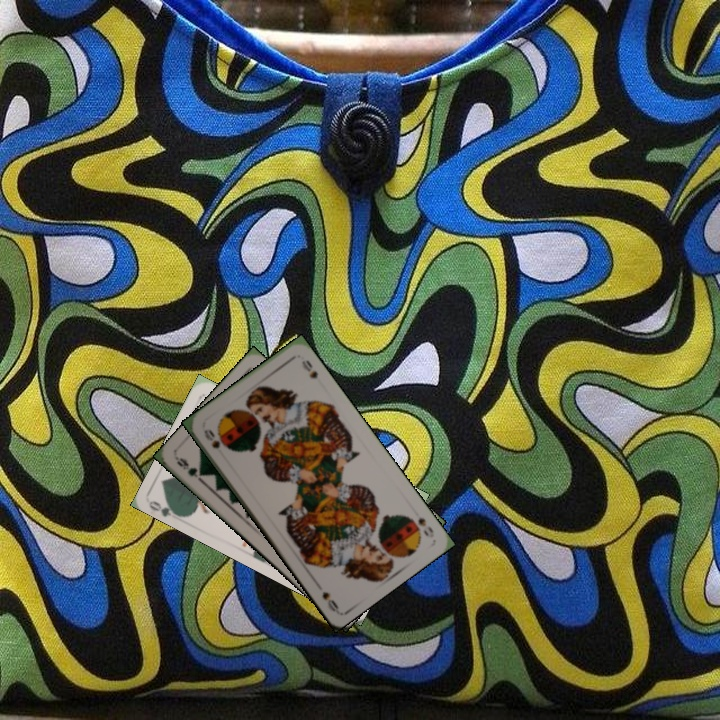G9: (172, 453, 207, 485)
GO: (146, 497, 186, 520)
SO: (407, 514, 436, 539), (200, 425, 223, 451)
